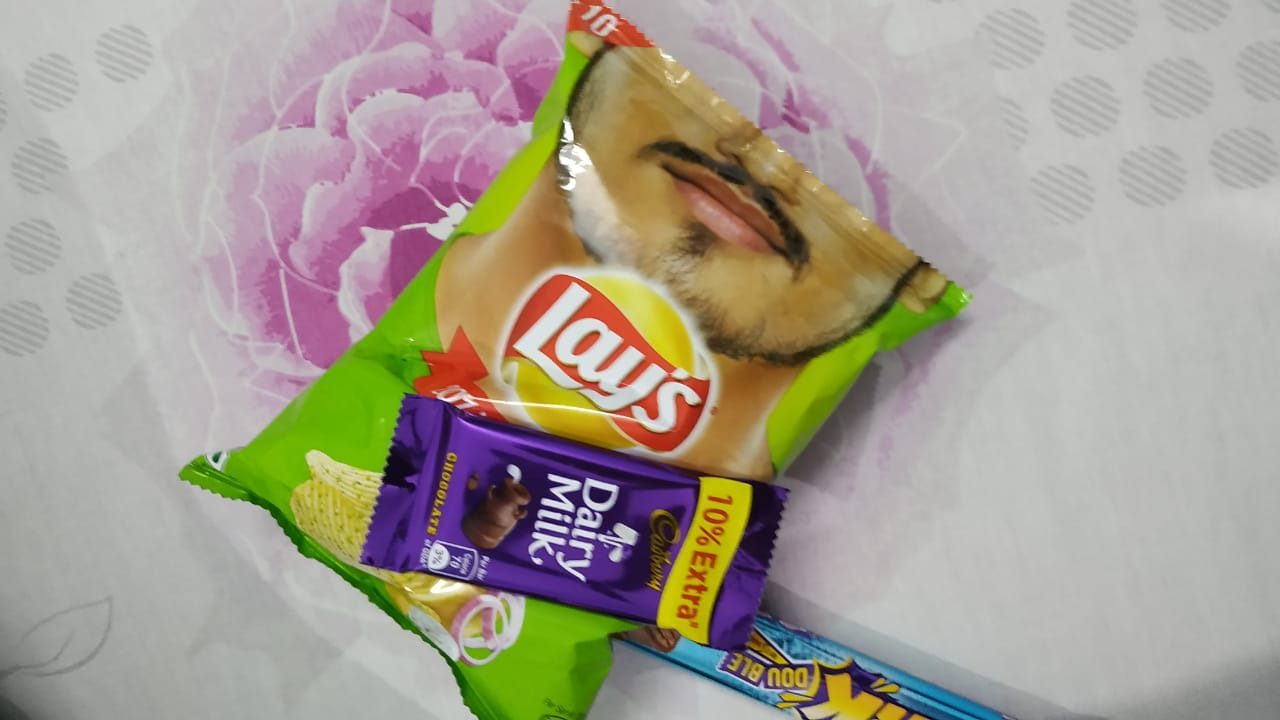dairy milk: (341, 388, 791, 662)
lays chips: (425, 2, 1020, 443)
